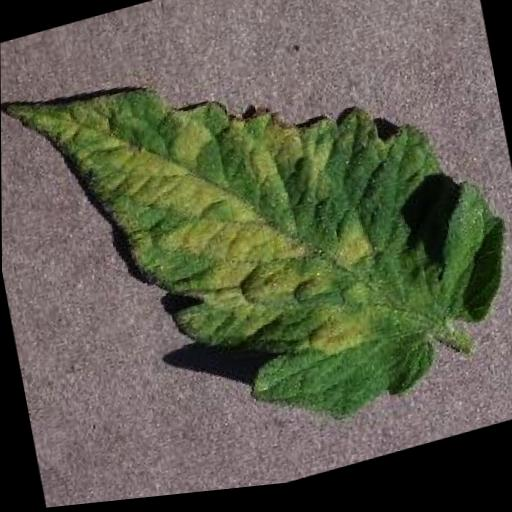Leaf Mold: (1, 0, 512, 504)
